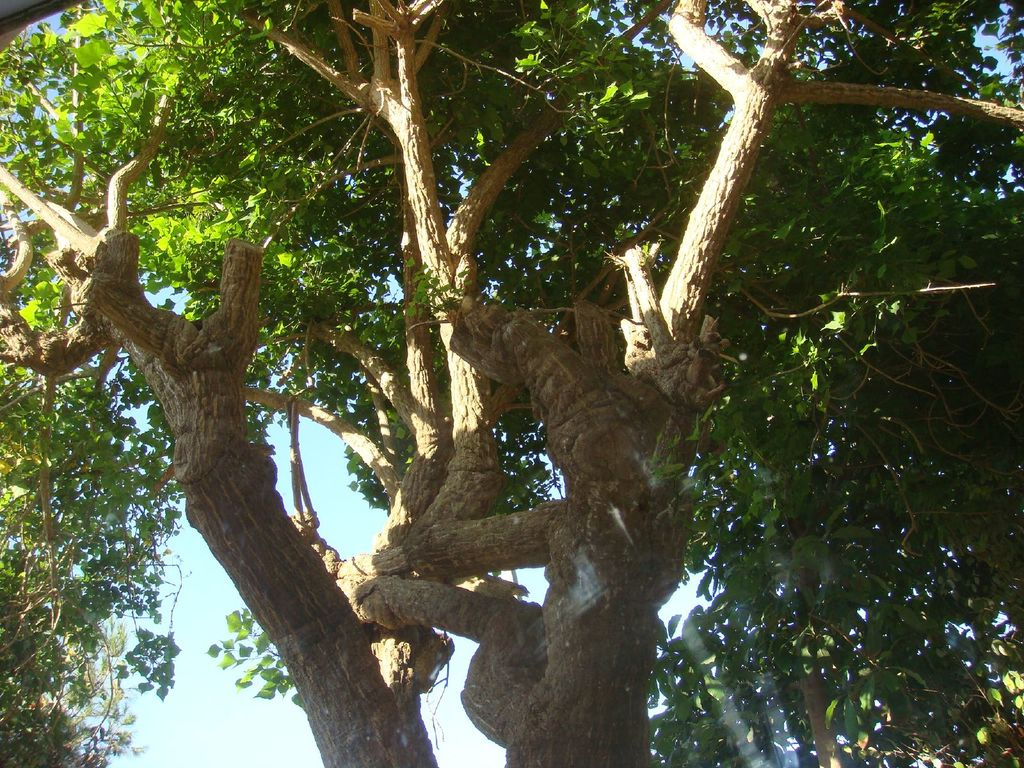Tree: (42, 15, 1004, 705)
